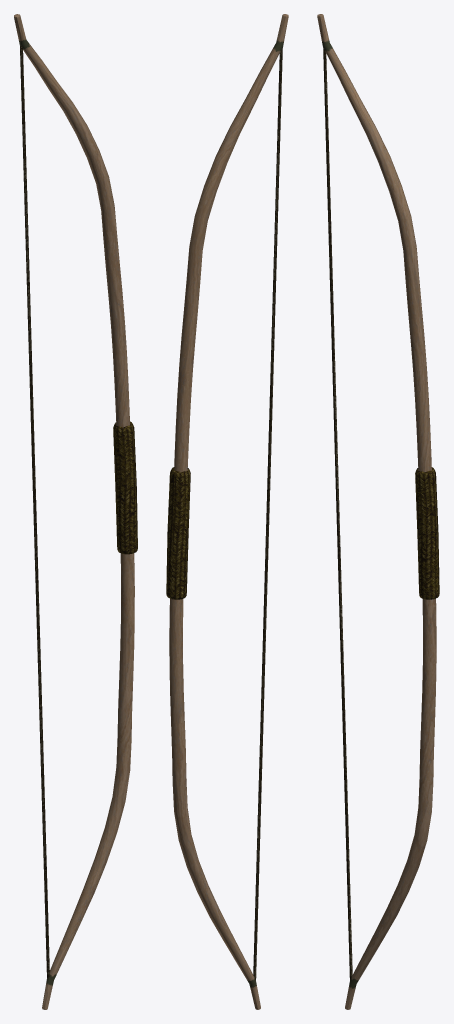
The model's file is LongBow3.fbx.
3 views of the same model, side by side, from view 1: azimuth 30°, elevation 25°; view 2: azimuth 210°, elevation 25°; view 3: azimuth 330°, elevation 25° (orthographic).
Visible parts, largest first — view 1: sticklow_bow3, rope_bow3; view 2: sticklow_bow3, rope_bow3; view 3: sticklow_bow3, rope_bow3.
Boxes of the visible parts, x1,y1,x2,y2 form: sticklow_bow3: [14, 14, 137, 1009]; rope_bow3: [20, 45, 49, 979]; sticklow_bow3: [166, 14, 288, 1009]; rope_bow3: [253, 47, 282, 979]; sticklow_bow3: [317, 14, 439, 1009]; rope_bow3: [323, 47, 352, 979].
Bounding box in the file's own units: 387 × 3019 × 58.71.
Materials: 1 (1 with a texture image).
